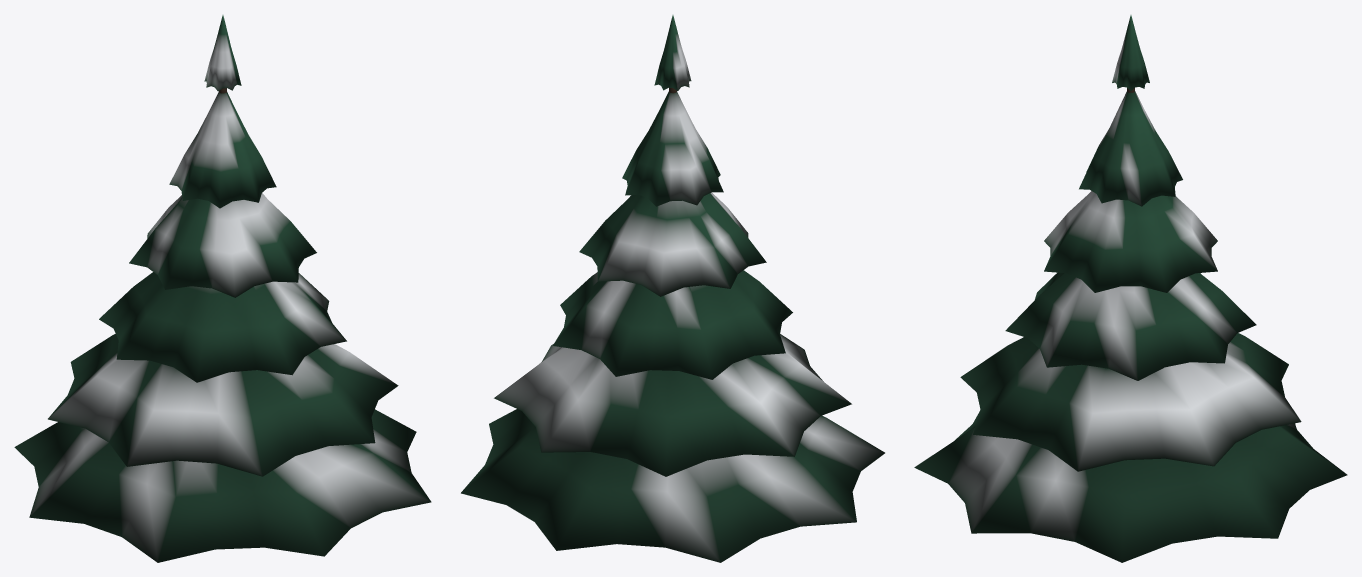
File: tree_12_3.glb
The picture shows the model from 3 angles, left to right: view 1: azimuth 30°, elevation 25°; view 2: azimuth 150°, elevation 25°; view 3: azimuth 270°, elevation 25°; orthographic projection.
Parts seen in each view (by area): view 1: canopy; view 2: canopy; view 3: canopy.
Part boxes in pixels (x1,y1,x2,y2): canopy: [14, 15, 431, 562]; canopy: [461, 15, 884, 562]; canopy: [914, 15, 1347, 562].
Bounding box in the file's own units: 3.84 × 4.74 × 3.84.
